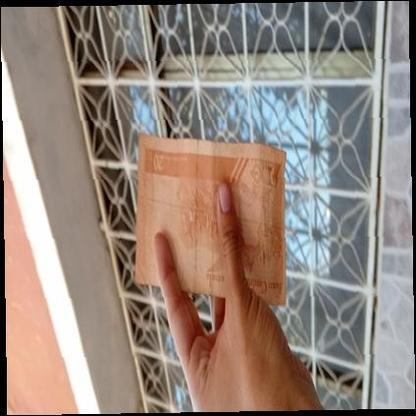twenty-back-vef: (134, 136, 286, 304)
